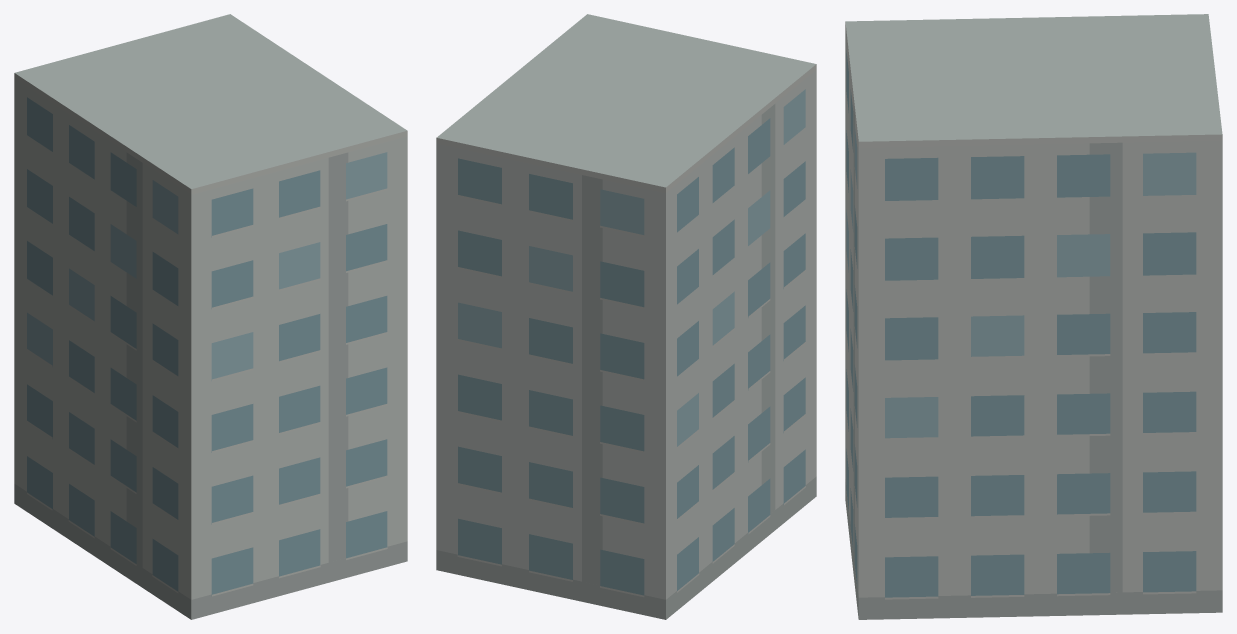
The model's file is survey-upis-32937253.glb.
3 renders of one model, left to right at view 1: azimuth 30°, elevation 25°; view 2: azimuth 150°, elevation 25°; view 3: azimuth 270°, elevation 25°, orthographic. The views are drawn at different scales.
Parts seen in each view (by area): view 1: survey-upis-32937253.tmp; view 2: survey-upis-32937253.tmp; view 3: survey-upis-32937253.tmp.
Boxes of the visible parts, x1,y1,x2,y2 form: survey-upis-32937253.tmp: [14, 14, 407, 619]; survey-upis-32937253.tmp: [436, 14, 816, 619]; survey-upis-32937253.tmp: [845, 14, 1222, 619].
Size of the model in its own units: 10.67 by 18.6 by 13.31.
